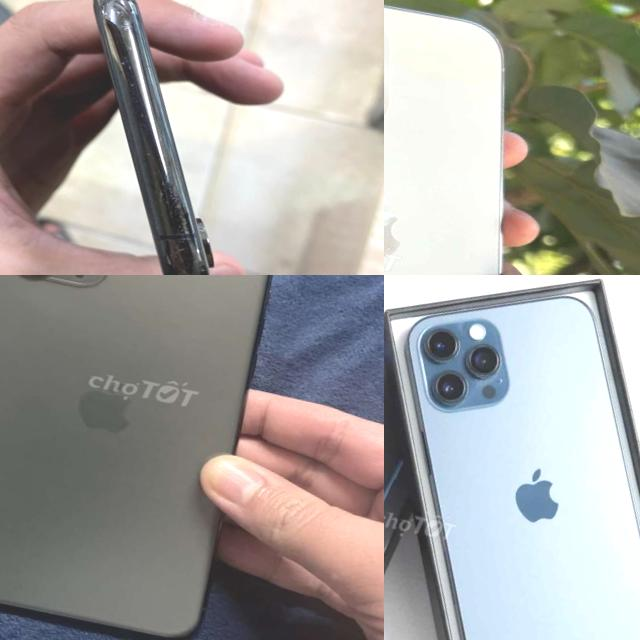scratch: (133, 177, 216, 275), (82, 0, 157, 82)
